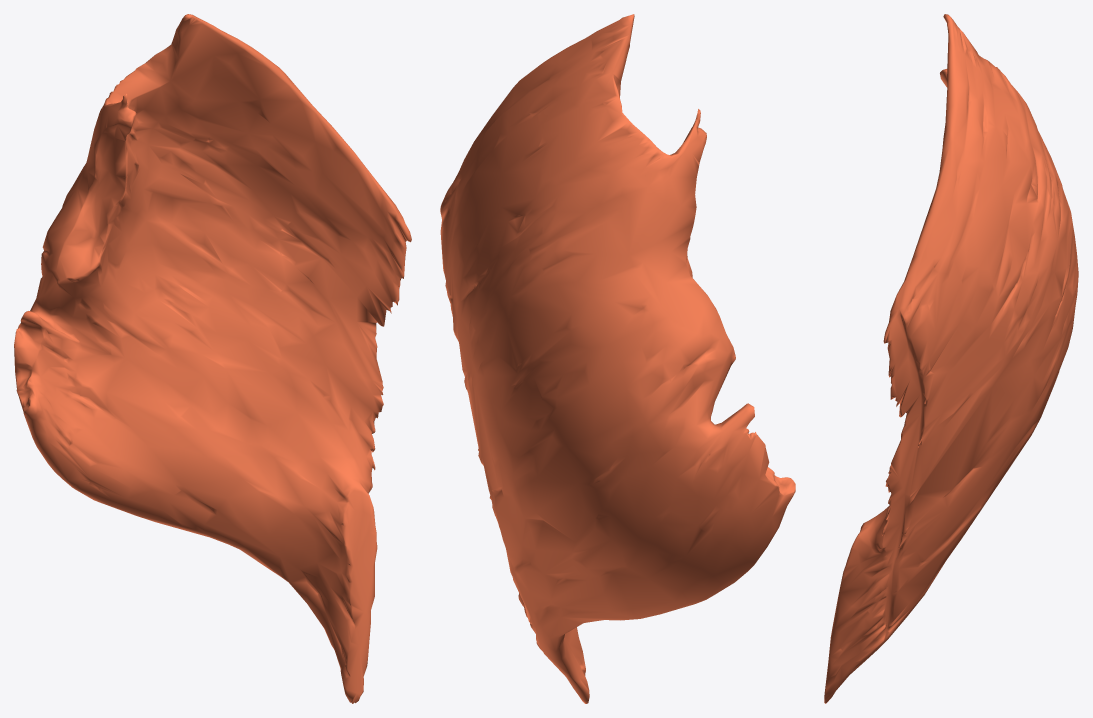
The model's file is Gluteus_maximus_left.glb.
3 views of the same model, side by side, from view 1: azimuth 30°, elevation 25°; view 2: azimuth 150°, elevation 25°; view 3: azimuth 270°, elevation 25° (orthographic). The views are drawn at different scales.
Parts seen in each view (by area): view 1: Gluteus_maximus_muscle.l_Generated_Mesh_From_X3D.488; view 2: Gluteus_maximus_muscle.l_Generated_Mesh_From_X3D.488; view 3: Gluteus_maximus_muscle.l_Generated_Mesh_From_X3D.488.
Part boxes in pixels (left/top/right/bottom): Gluteus_maximus_muscle.l_Generated_Mesh_From_X3D.488: left=14, top=14, right=411, bottom=703; Gluteus_maximus_muscle.l_Generated_Mesh_From_X3D.488: left=440, top=14, right=795, bottom=703; Gluteus_maximus_muscle.l_Generated_Mesh_From_X3D.488: left=824, top=14, right=1078, bottom=703.
Size of the model in its own units: 0.1453 by 0.2696 by 0.097.
